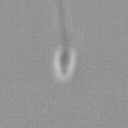normal: (52, 1, 70, 43)
